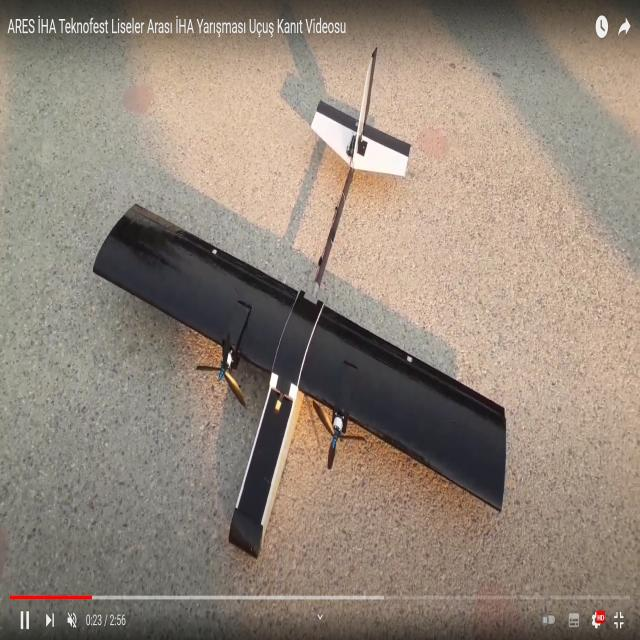iha: (94, 57, 506, 549)
